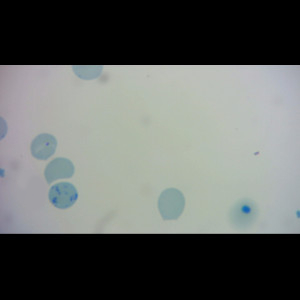aggregate reticulocyte: (48, 181, 79, 210)
erythrocyte: (156, 187, 187, 221), (43, 156, 75, 185), (29, 132, 58, 161)
